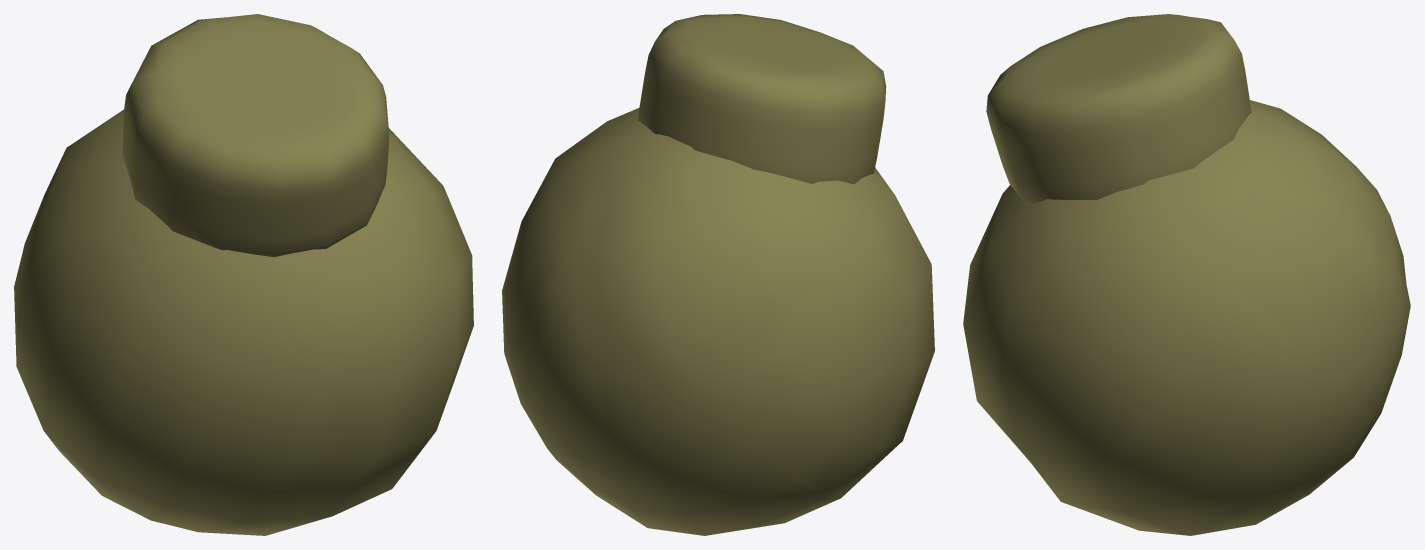
Rendered from XanderGrenade.FBX.
3 views of the same model, side by side, from view 1: azimuth 30°, elevation 25°; view 2: azimuth 150°, elevation 25°; view 3: azimuth 270°, elevation 25° (orthographic). The views are drawn at different scales.
Visible parts, largest first — view 1: Group3, Group5; view 2: Group3, Group5; view 3: Group3, Group5.
Boxes of the visible parts, x1,y1,x2,y2 form: Group3: (14,109,473,535); Group5: (122,14,388,257); Group3: (502,108,934,535); Group5: (638,14,886,184); Group3: (963,100,1410,535); Group5: (986,14,1251,204).
Size of the model in its own units: 0.6582 by 0.7758 by 0.6692.
